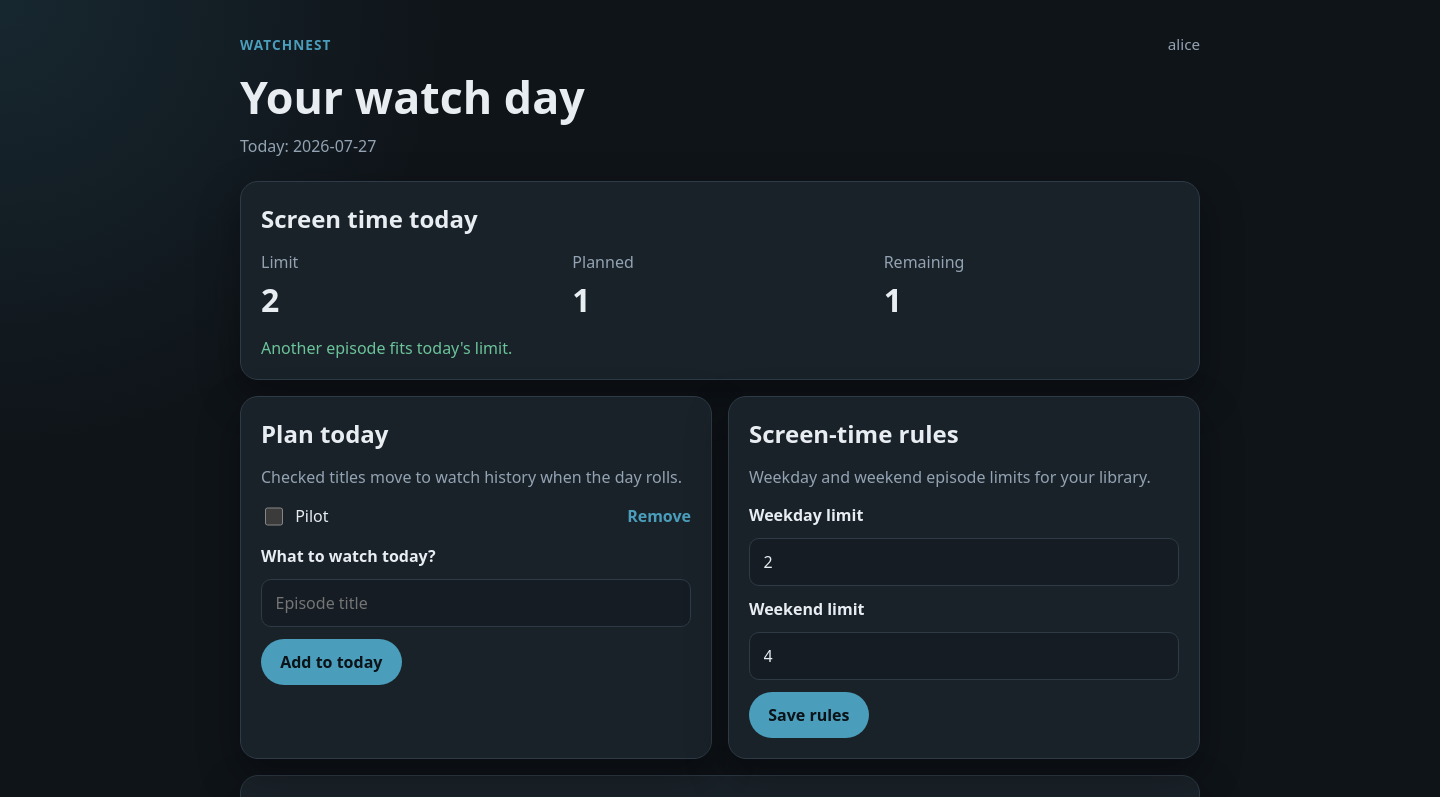
Scenario: PlanTodaySection › adds, toggles, and removes PlanToday lines when the flag is off
expect the heading "Plan today" is shown: met, box [261, 417, 388, 450]
expect the text "Checked titles move to watch history when the day rolls." is shown: met, box [261, 466, 691, 488]
Type "Episode 2" into the field labelled "What to watch today?" at (476, 603), box [261, 579, 691, 627]
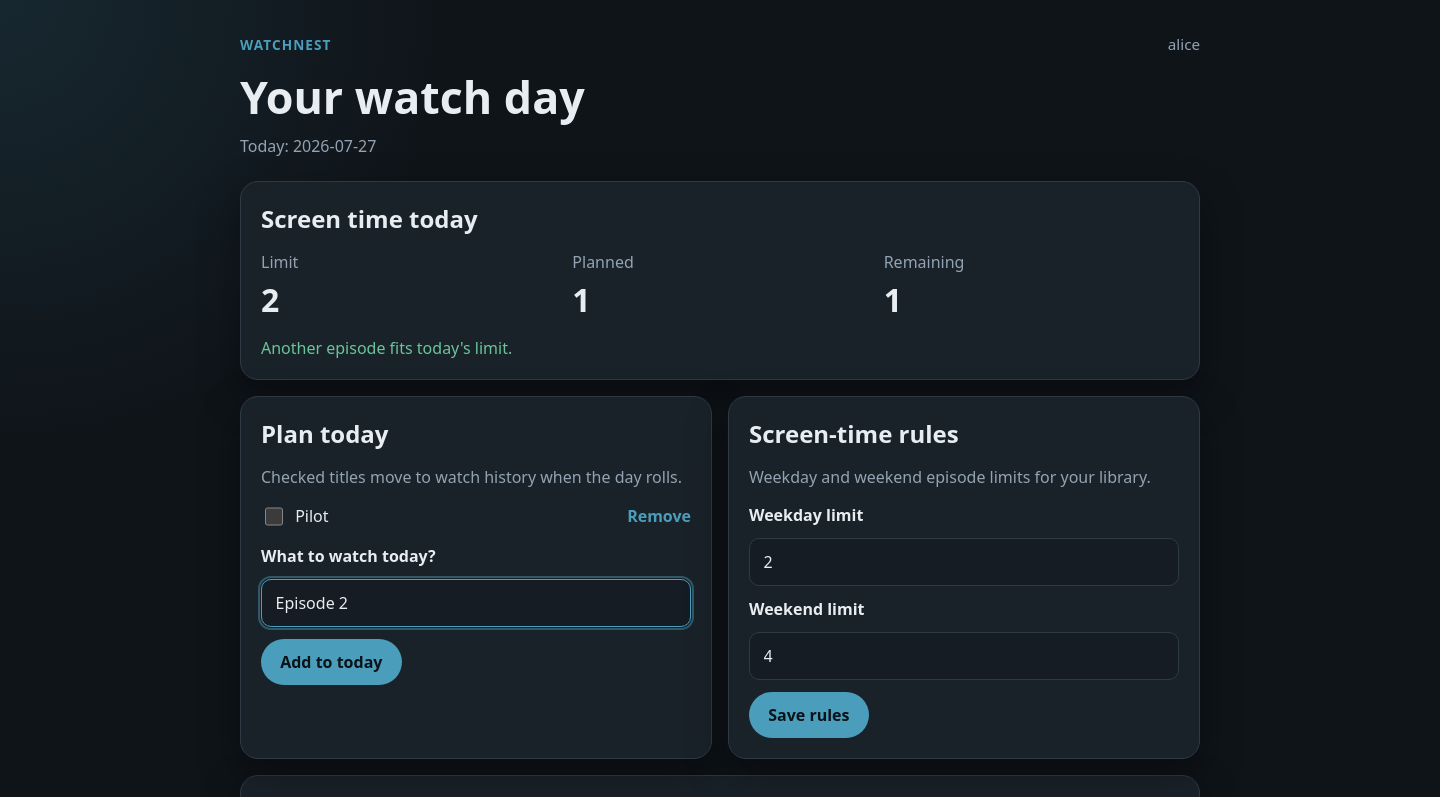
Click the button "Add to today" at (331, 662), box [261, 639, 402, 685]
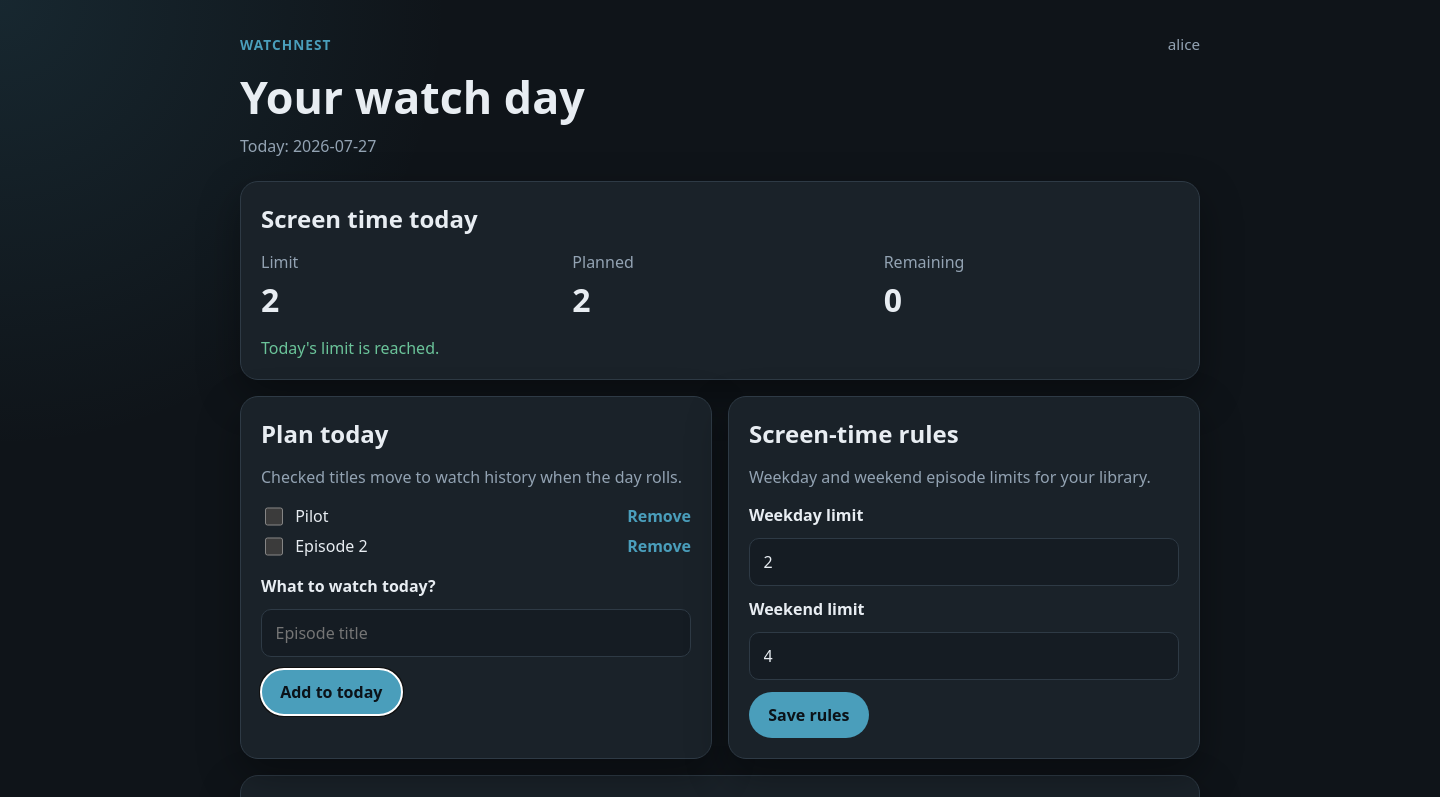
expect the checkbox labelled "Episode 2" is shown: met, box [265, 537, 283, 556]
Click the checkbox labelled "Pilot" at (274, 516), box [265, 507, 283, 526]
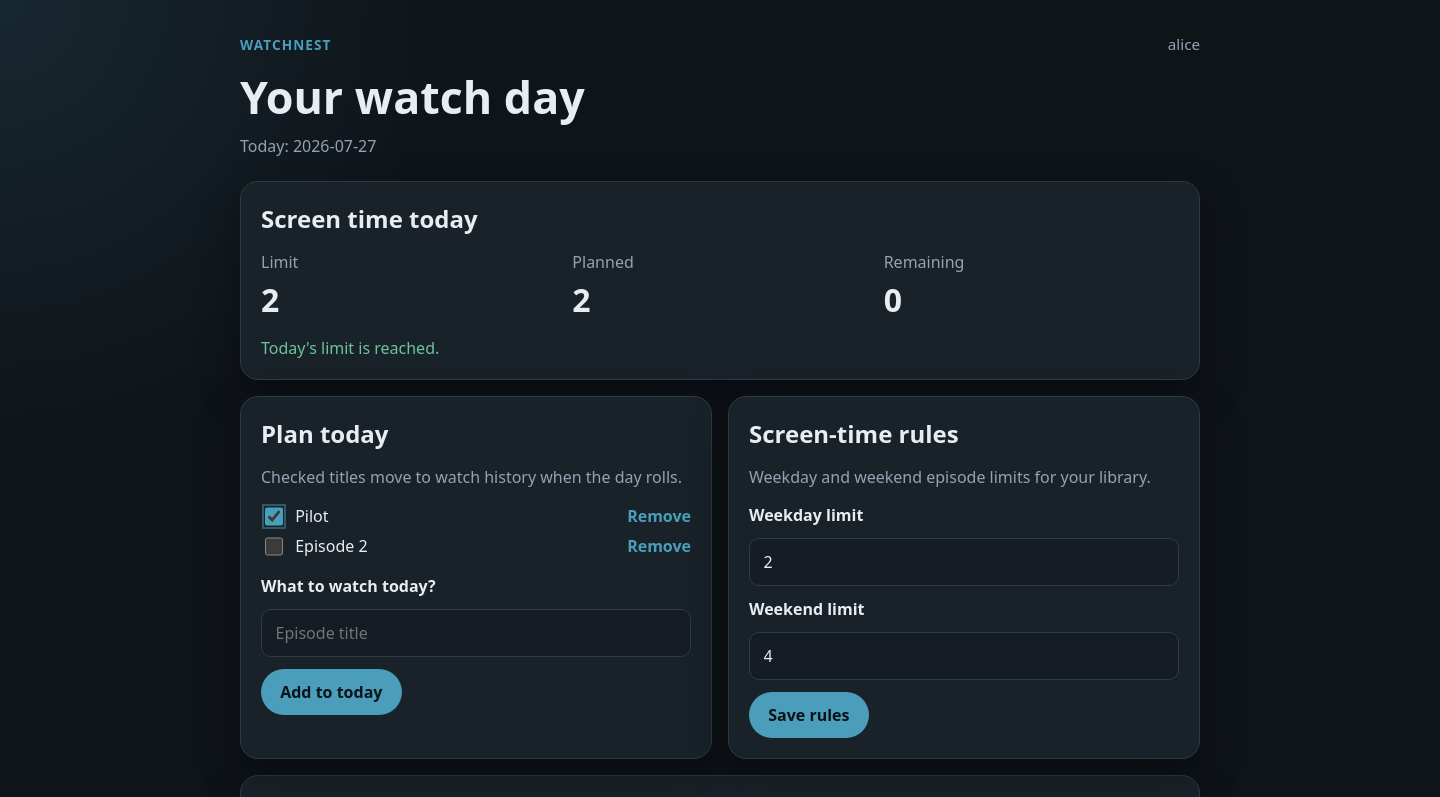
expect the checkbox labelled "Pilot" is checked: met, box [265, 507, 283, 526]
Click the button with aria-label "Remove Episode 2" at (659, 546), box [627, 535, 691, 557]
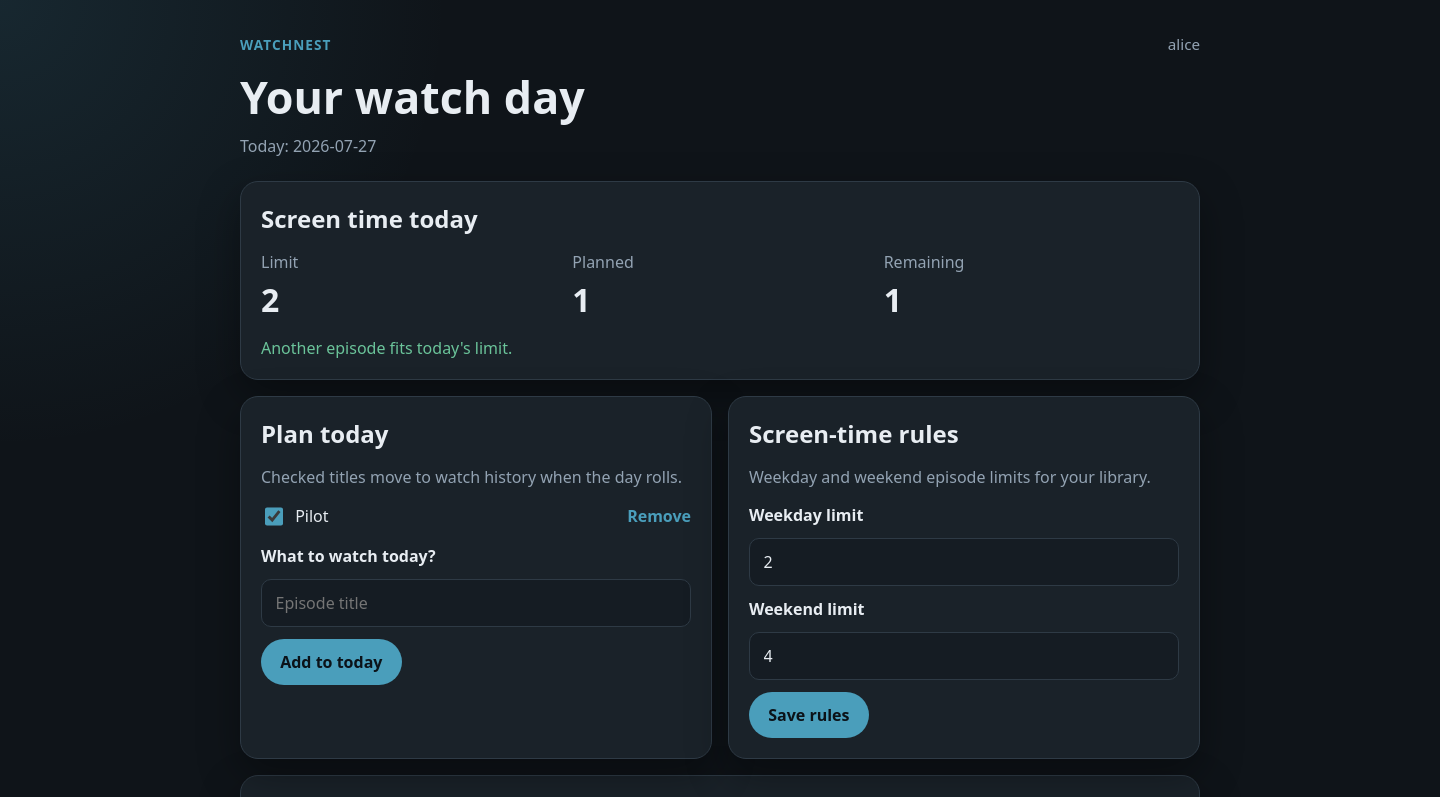
expect the checkbox labelled "Pilot" is shown: met, box [265, 507, 283, 526]
expect the text "Episode 2" is gone: met
